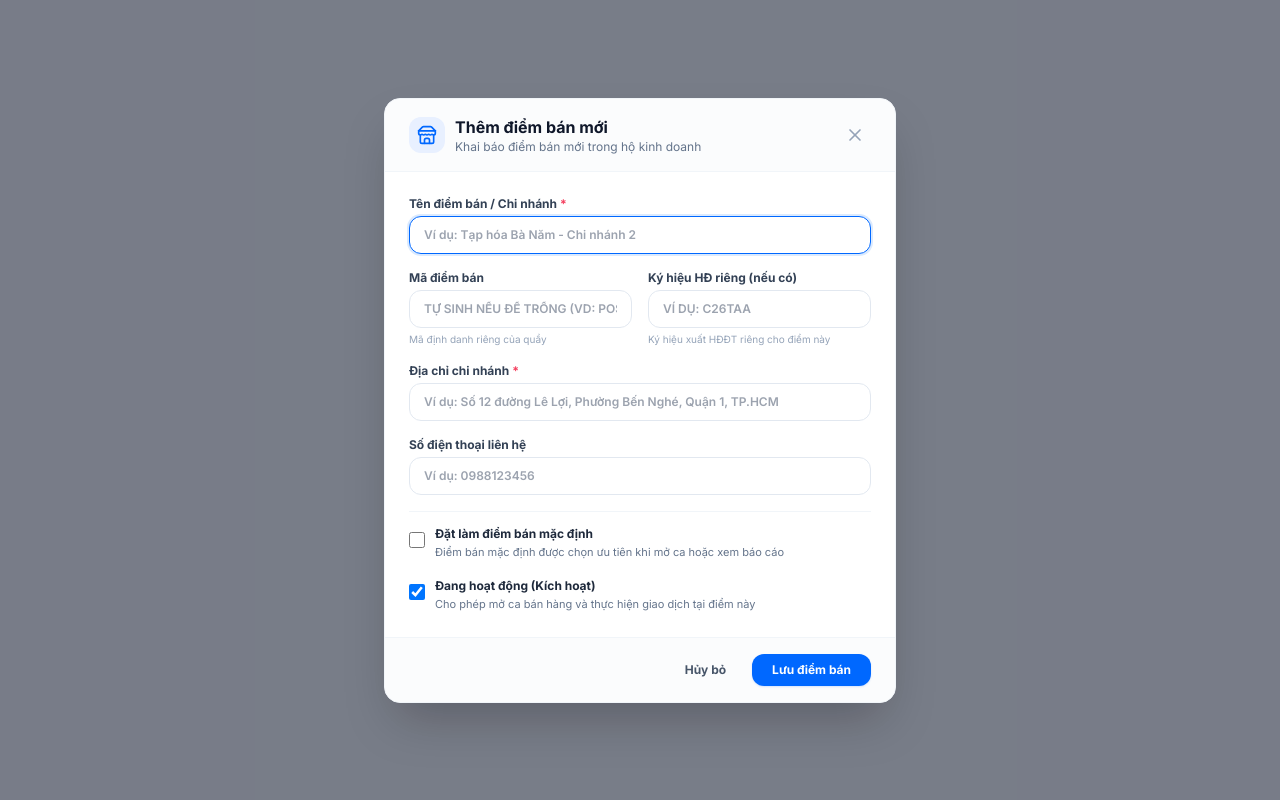
PointOfSale Module (NCL-17-CN-001 & NCL-17-CN-002) › validates invalid invoice symbol in PointOfSaleModal
Type "Chi nhánh Mới" into the field with placeholder "Ví dụ: Tạp hóa Bà Năm - Chi nhánh 2" at (640, 234), box [409, 216, 871, 254]
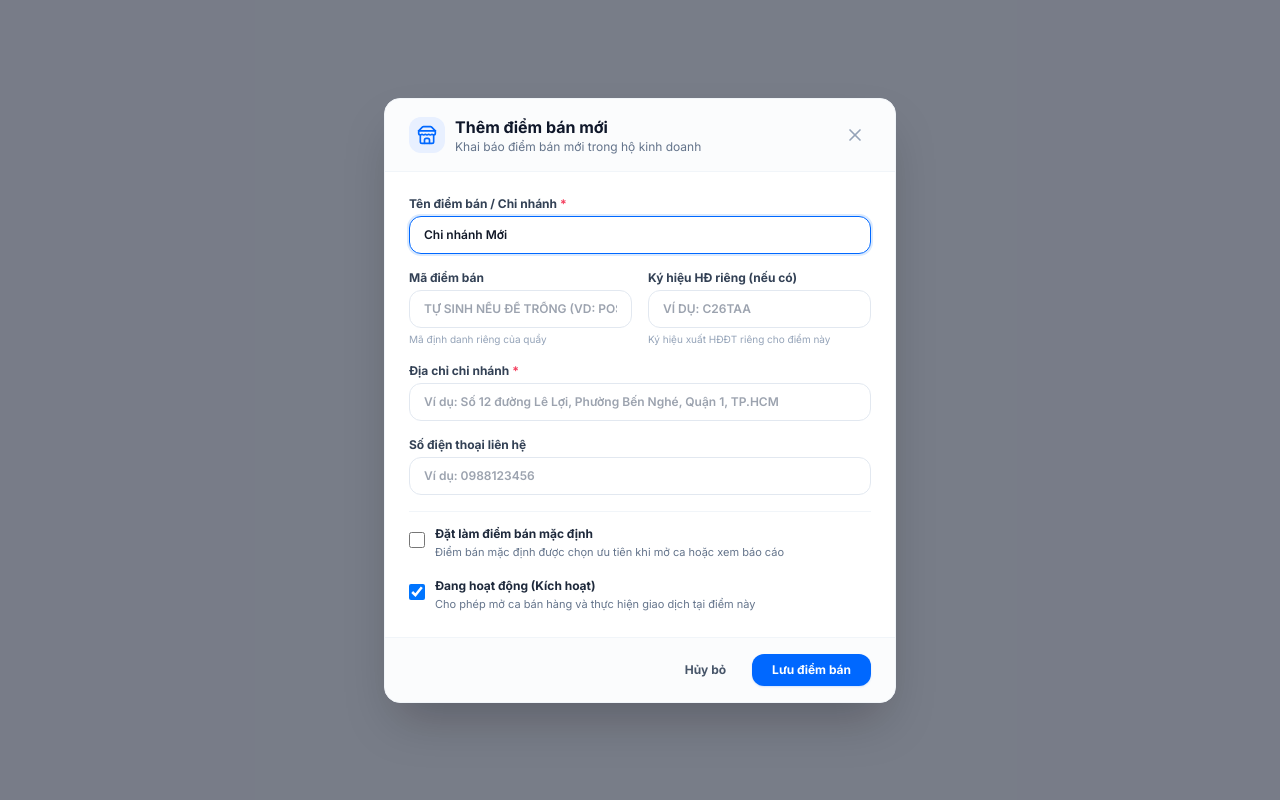
Type "100 Nguyễn Huệ" into the field with placeholder "Ví dụ: Số 12 đường Lê Lợi, Phường Bến Nghé, Quận 1, TP.HCM" at (640, 402), box [409, 382, 871, 420]
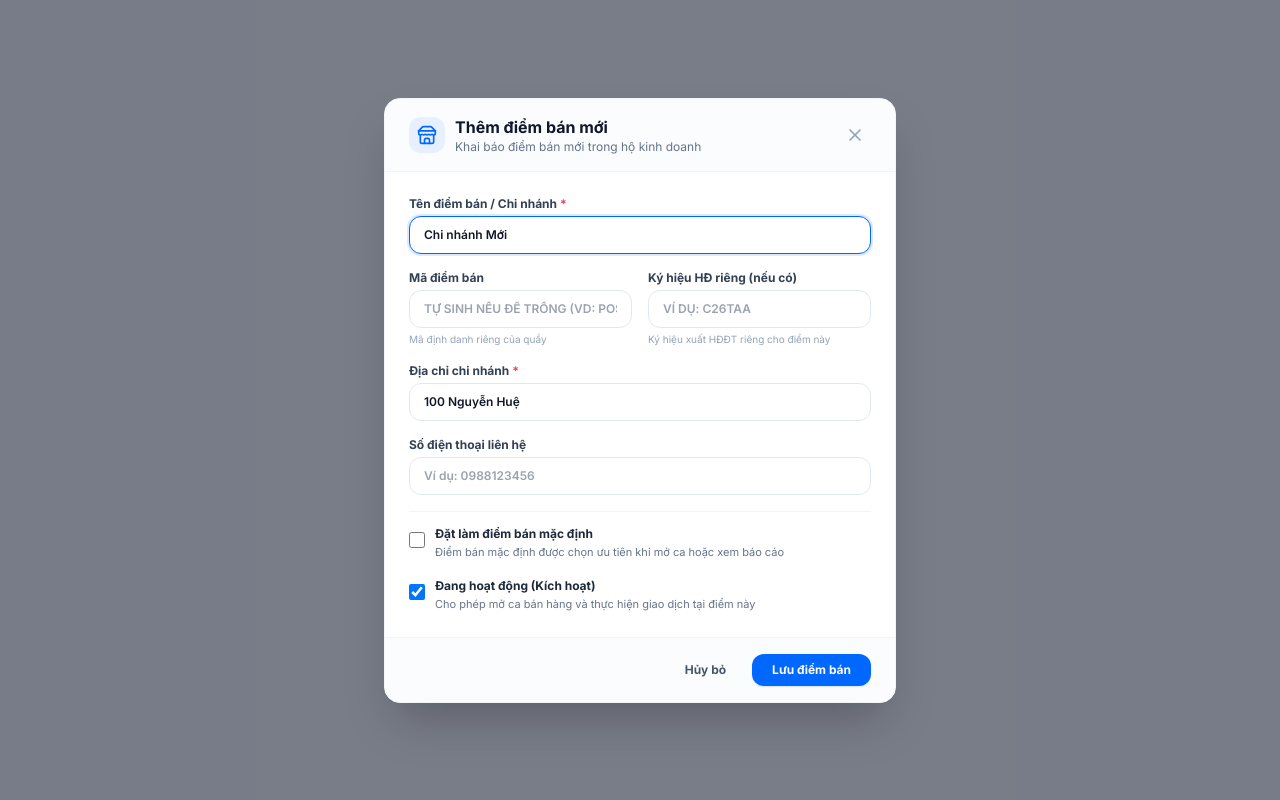
Type "???" into the field with placeholder "Ví dụ: C26TAA" at (760, 308), box [648, 290, 871, 328]
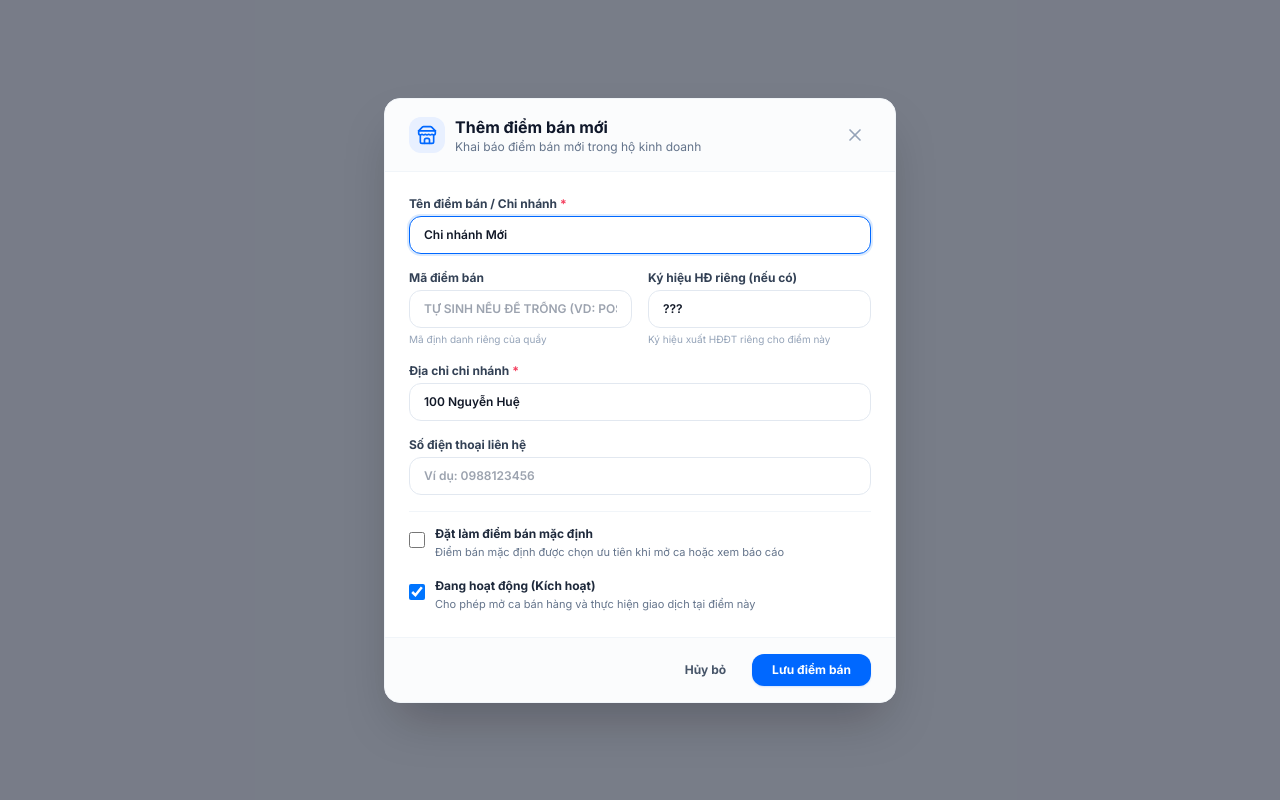
Click the button "Lưu điểm bán" at (812, 670), box [752, 654, 871, 686]
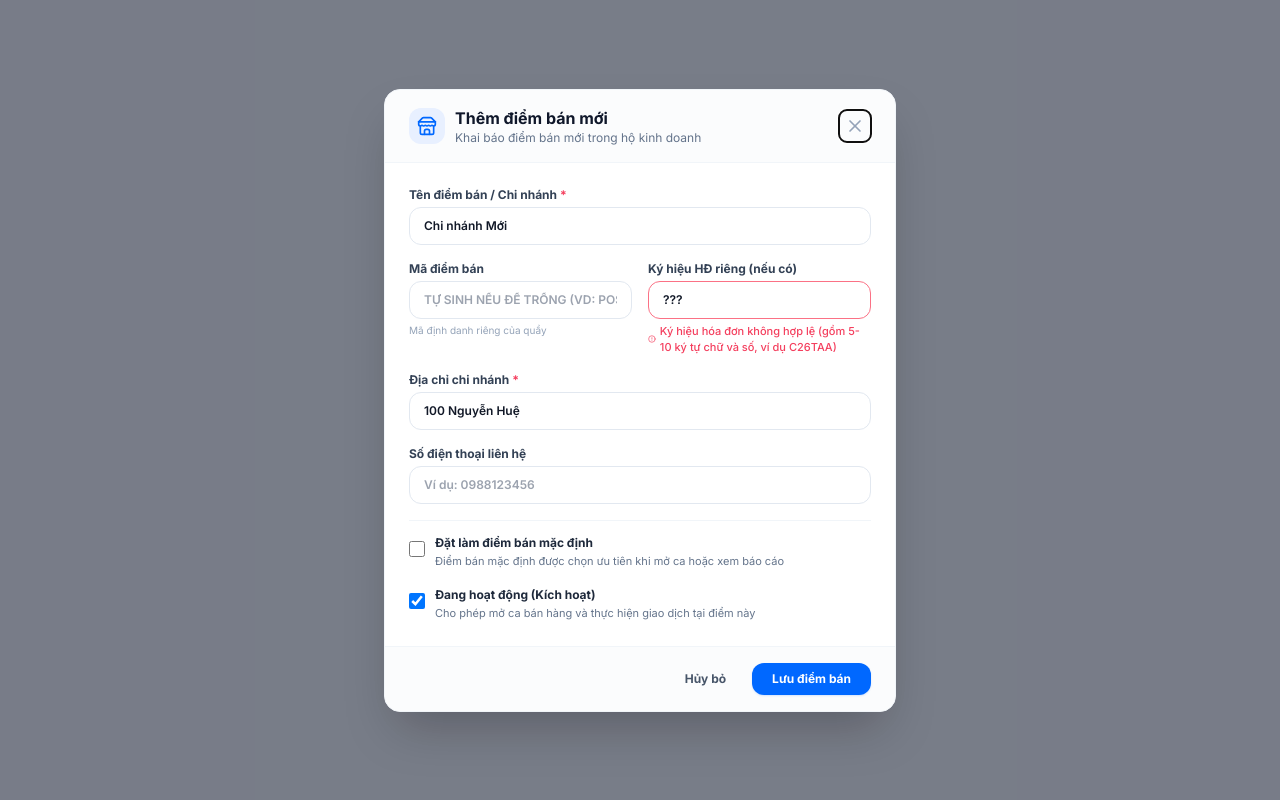
Result: the text "Ký hiệu hóa đơn không hợp lệ" is shown at [660, 324, 860, 354]
